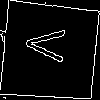V: (25, 26, 76, 65)
